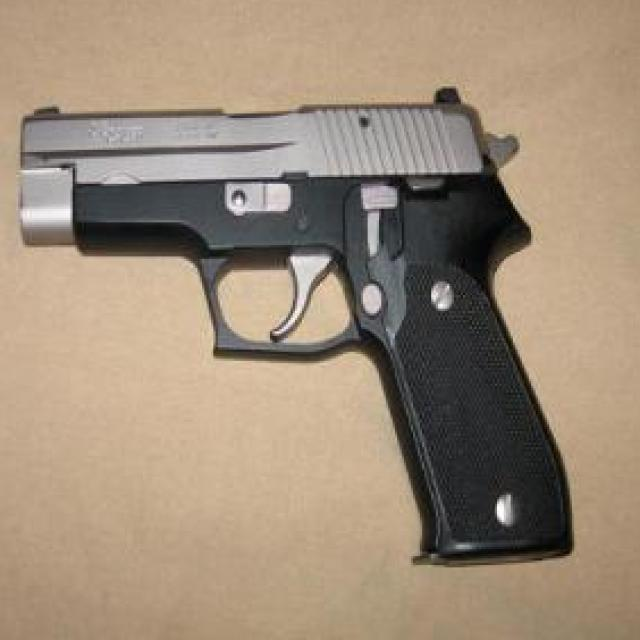pistol: (21, 84, 576, 562)
